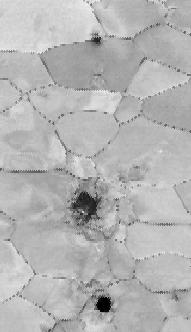good_void: (58, 183, 114, 229), (91, 288, 121, 318), (119, 162, 148, 188), (75, 275, 99, 294), (90, 65, 107, 84), (86, 34, 106, 45), (167, 290, 181, 305)
